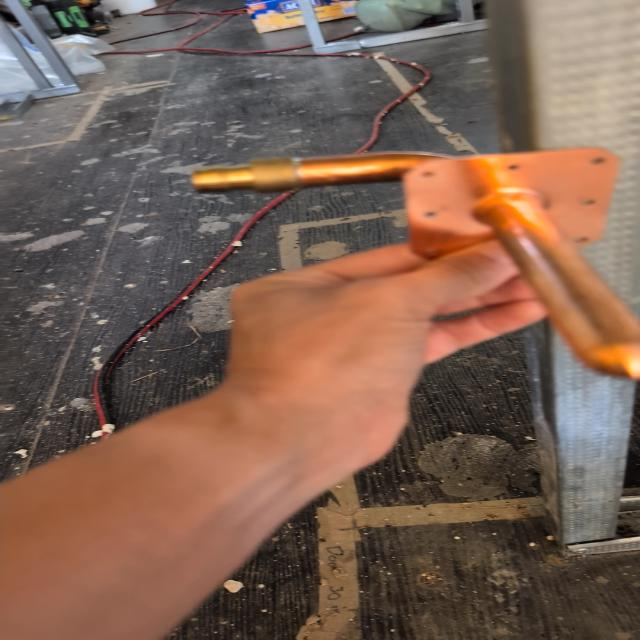wall_flange: (182, 146, 640, 382)
